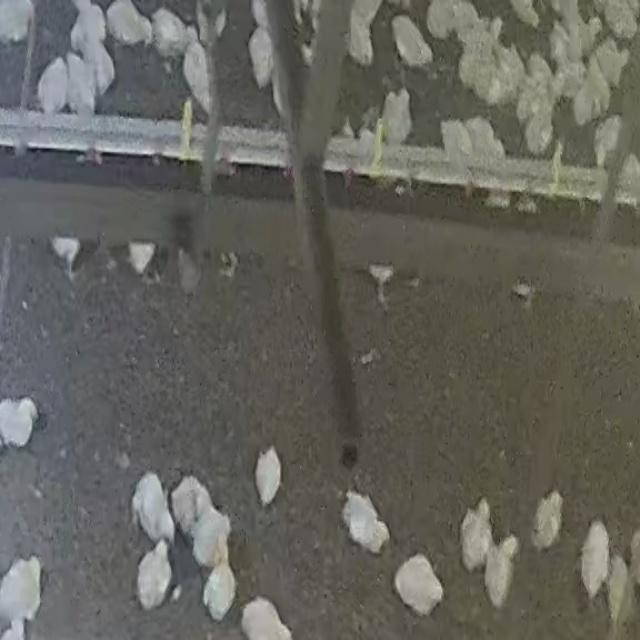chicken: (0, 558, 42, 638), (392, 552, 444, 616), (131, 471, 175, 544), (340, 490, 390, 554), (462, 116, 505, 187), (136, 538, 174, 610), (524, 84, 560, 158), (190, 507, 232, 569), (202, 546, 236, 622), (579, 520, 611, 600), (171, 475, 212, 536), (484, 537, 518, 609), (457, 17, 488, 93), (65, 48, 98, 119), (182, 37, 212, 115), (461, 500, 494, 570), (390, 13, 431, 68), (473, 36, 503, 108), (0, 396, 39, 451), (592, 38, 633, 90), (71, 0, 109, 56), (241, 598, 294, 638), (252, 444, 285, 508), (104, 1, 150, 46), (33, 55, 67, 115), (149, 6, 189, 54), (429, 1, 479, 39), (381, 88, 414, 144), (531, 491, 562, 550), (605, 553, 629, 628), (439, 119, 475, 168), (585, 54, 612, 115), (248, 25, 274, 87), (593, 114, 623, 166), (346, 15, 376, 67), (89, 40, 116, 97), (572, 76, 599, 126)
